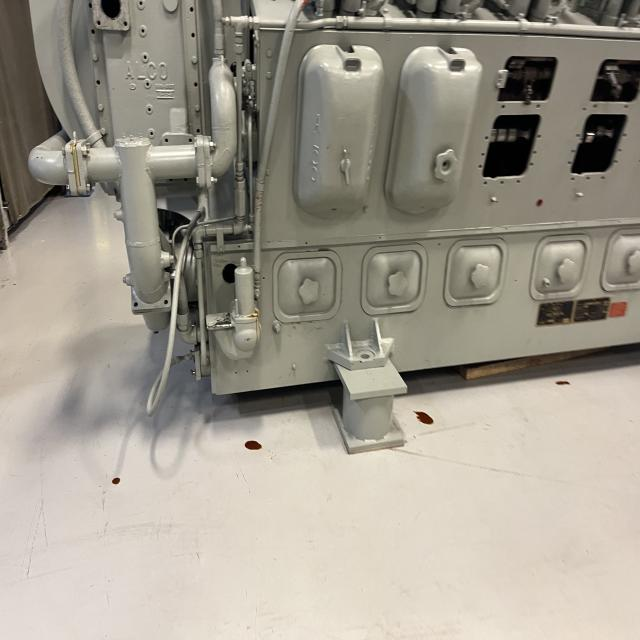Oil Leak: (201, 257, 264, 363), (61, 138, 91, 197), (411, 409, 435, 426), (244, 440, 262, 450), (111, 477, 120, 485), (556, 381, 570, 385)
